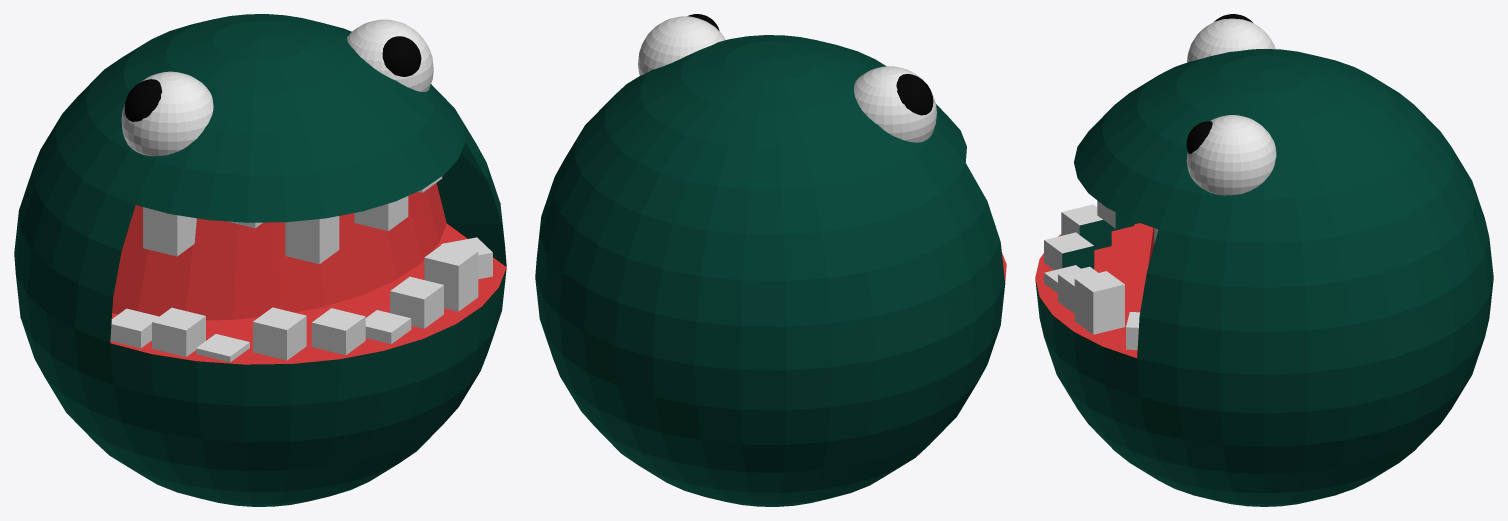
File: WTF.fbx
3 views of the same model, side by side, from view 1: azimuth 30°, elevation 25°; view 2: azimuth 150°, elevation 25°; view 3: azimuth 270°, elevation 25° (orthographic). The views are drawn at different scales.
Visible parts, largest first — view 1: Sphere, Sphere.001, Sphere.002, Sphere.003, Sphere.004; view 2: Sphere, Sphere.001, Sphere.002, Sphere.004; view 3: Sphere, Sphere.002, Sphere.001, Sphere.003.
Part boxes in pixels (x1,y1,x2,y2): Sphere: (14, 14, 506, 506); Sphere.001: (121, 71, 213, 156); Sphere.002: (347, 19, 433, 92); Sphere.003: (382, 36, 421, 76); Sphere.004: (124, 79, 161, 121); Sphere: (535, 35, 1006, 506); Sphere.001: (854, 66, 936, 142); Sphere.002: (638, 16, 725, 75); Sphere.004: (896, 74, 933, 115); Sphere: (1035, 49, 1493, 506); Sphere.002: (1186, 115, 1276, 195); Sphere.001: (1187, 18, 1275, 62); Sphere.003: (1186, 121, 1212, 153).
Bounding box in the file's own units: 200 × 200 × 200.
